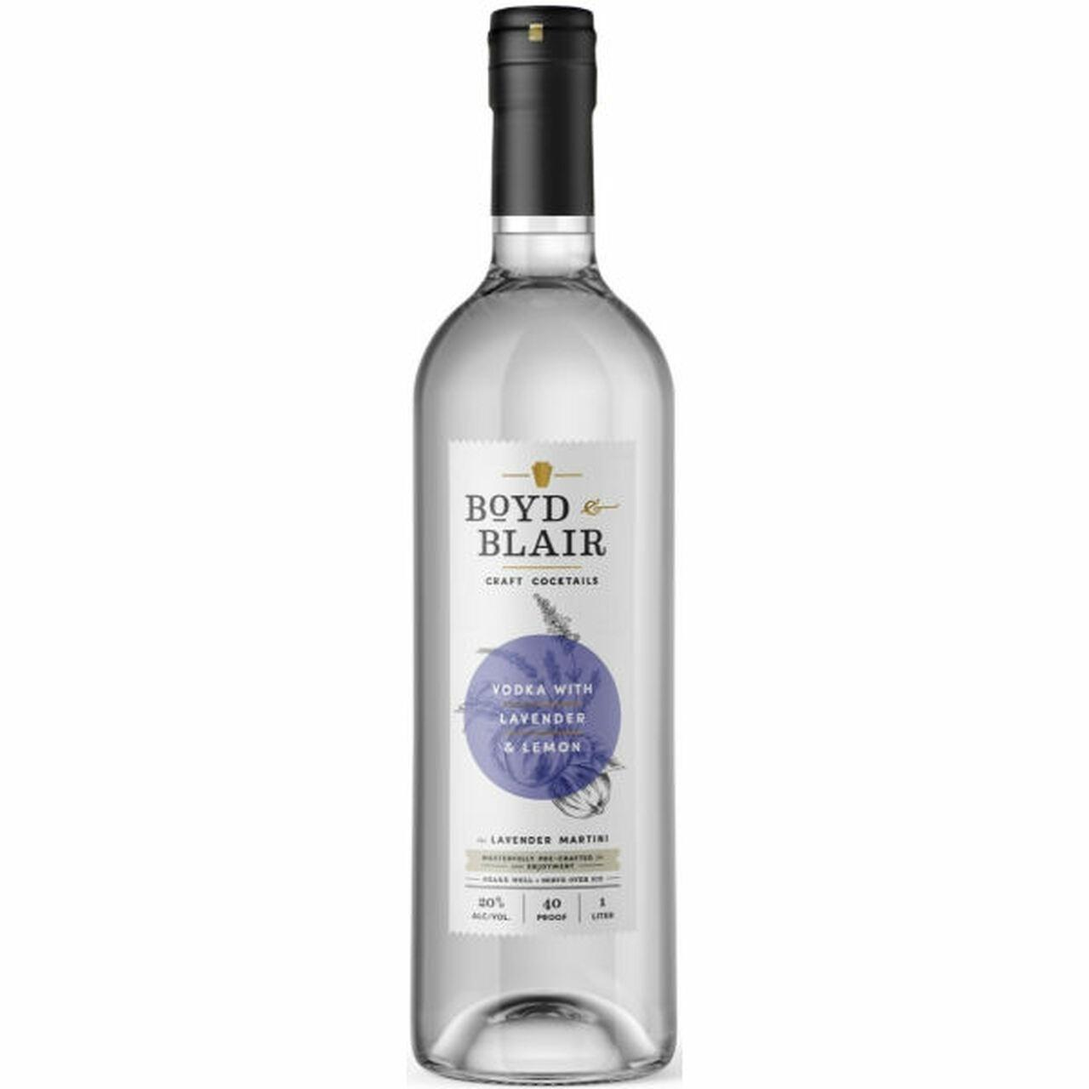bottle-glass: (403, 0, 686, 1088)
